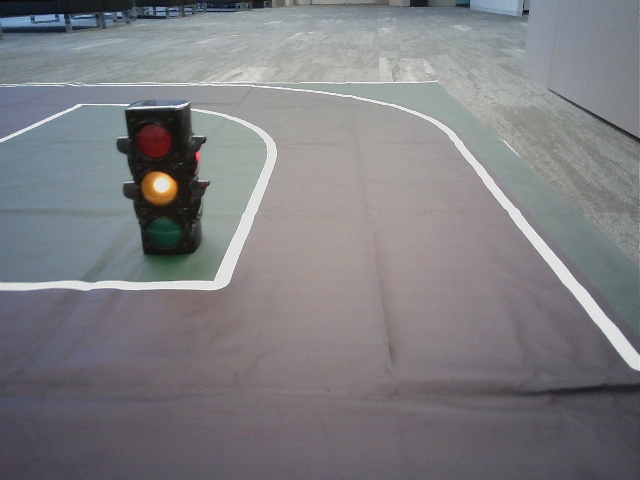yellow: (132, 114, 185, 247)
